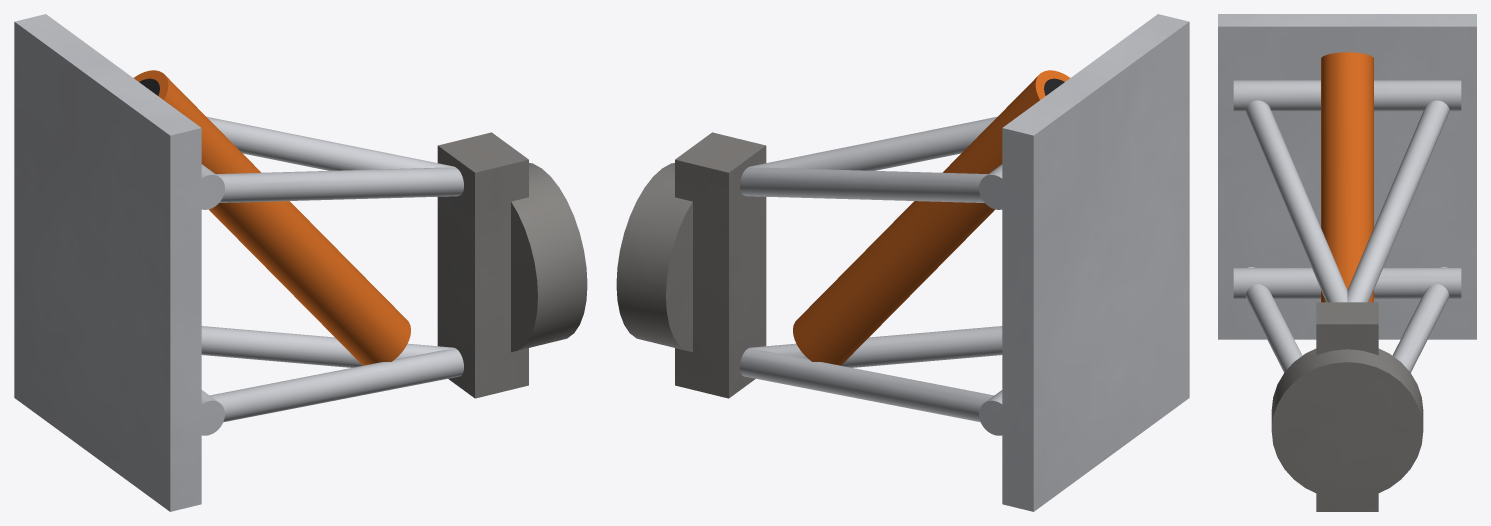
Rendered from rover17_suspension_arm_m_susp_down.glb.
3 views of the same model, side by side, from view 1: azimuth 30°, elevation 25°; view 2: azimuth 150°, elevation 25°; view 3: azimuth 270°, elevation 25° (orthographic). The views are drawn at different scales.
Parts seen in each view (by area): view 1: mount_plate, arm_upright, spring, arm_upper, arm_lower; view 2: mount_plate, arm_upright, spring, arm_upper, arm_lower; view 3: mount_plate, arm_upright, arm_upper, spring, arm_lower.
Part boxes in pixels (x1,y1,x2,y2): mount_plate: (14,14,201,511); arm_upright: (437,132,587,398); spring: (134,70,410,365); arm_upper: (201,116,463,209); arm_lower: (201,326,463,435); mount_plate: (1002,14,1189,511); arm_upright: (616,132,766,398); spring: (793,70,1069,365); arm_upper: (740,116,1002,209); arm_lower: (740,326,1002,435); mount_plate: (1218,14,1476,339); arm_upright: (1271,302,1423,511); arm_upper: (1233,80,1461,302); spring: (1321,52,1373,302); arm_lower: (1233,267,1461,372).
Size of the model in its own units: 0.5 by 0.42 by 0.3.
Materials: 4 (2 with a texture image).
